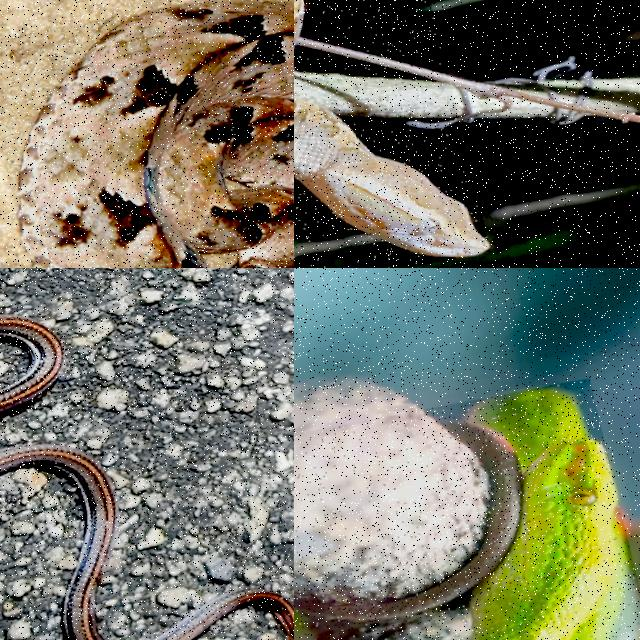Calliophis intestinalis: (0, 444, 115, 639)
Calloselasma rhodostoma: (19, 0, 293, 267), (294, 100, 487, 256)
Trimeresurus macrops: (294, 390, 627, 639)
